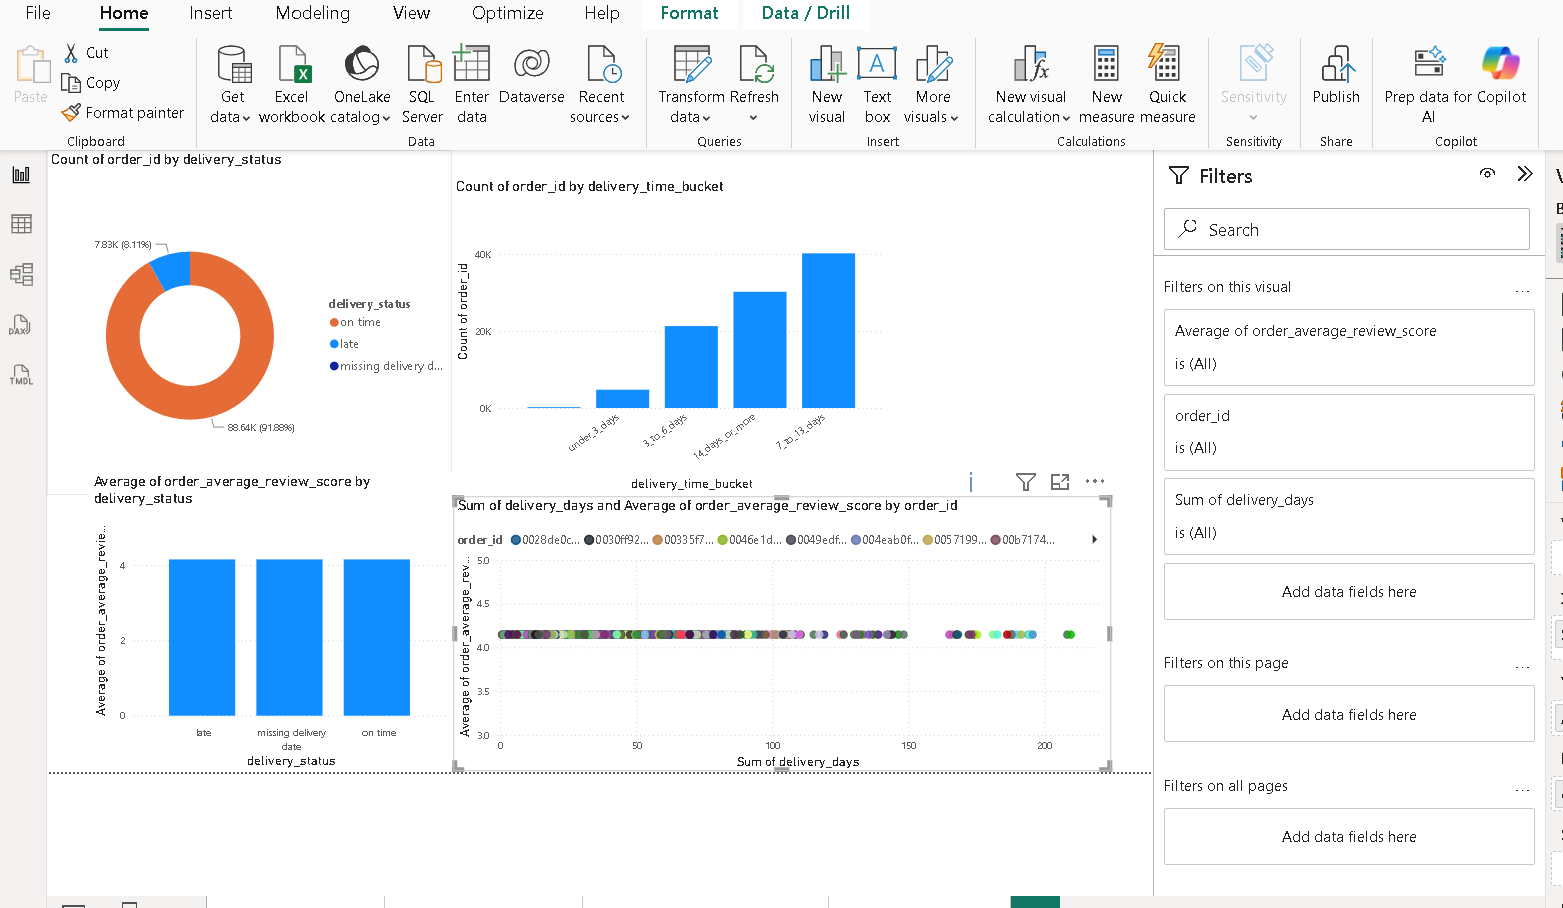

The page's visual inventory and layout, read from the dashboard file:
{"tool":"powerbi","page":{"name":"Delivery & Reviews","canvas":[1280,720],"ordinal":3},"visuals":[{"type":"donutChart","fields":{"Category":["fact_order.delivery_status"],"Y":["CountNonNull(fact_order.order_id)"]},"box":[0,0,469.3,399.4],"z":0},{"type":"columnChart","fields":{"Category":["fact_order.delivery_time_bucket"],"Y":["CountNonNull(fact_order.order_id)"]},"box":[469.3,31.9,505.7,367.5],"z":2},{"type":"scatterChart","fields":{"X":["Sum(fact_order.delivery_days)"],"Y":["Avg(fact_order_category_delivery.order_average_review_score)"],"Series":["fact_order.order_id"]},"box":[470.3,400,761.5,319.7],"z":3},{"type":"columnChart","fields":{"Category":["fact_order.delivery_status"],"Y":["Avg(fact_order_category_delivery.order_average_review_score)"]},"box":[48.6,373.6,420.7,346.3],"z":4}]}

Visuals, with their boxes on the page's 1280x720 design canvas (x1, y1, x2, y2). These are canvas units, not pixel positions in the 1563x908 screenshot, which may show the page scaled, cropped or inside an application window:
donutChart - fact_order.delivery_status x CountNonNull(fact_order.order_id): [x1=0, y1=0, x2=469, y2=399]
columnChart - fact_order.delivery_time_bucket x CountNonNull(fact_order.order_id): [x1=469, y1=32, x2=975, y2=399]
scatterChart - Sum(fact_order.delivery_days) x Avg(fact_order_category_delivery.order_average_review_score): [x1=470, y1=400, x2=1232, y2=720]
columnChart - fact_order.delivery_status x Avg(fact_order_category_delivery.order_average_review_score): [x1=49, y1=374, x2=469, y2=720]
